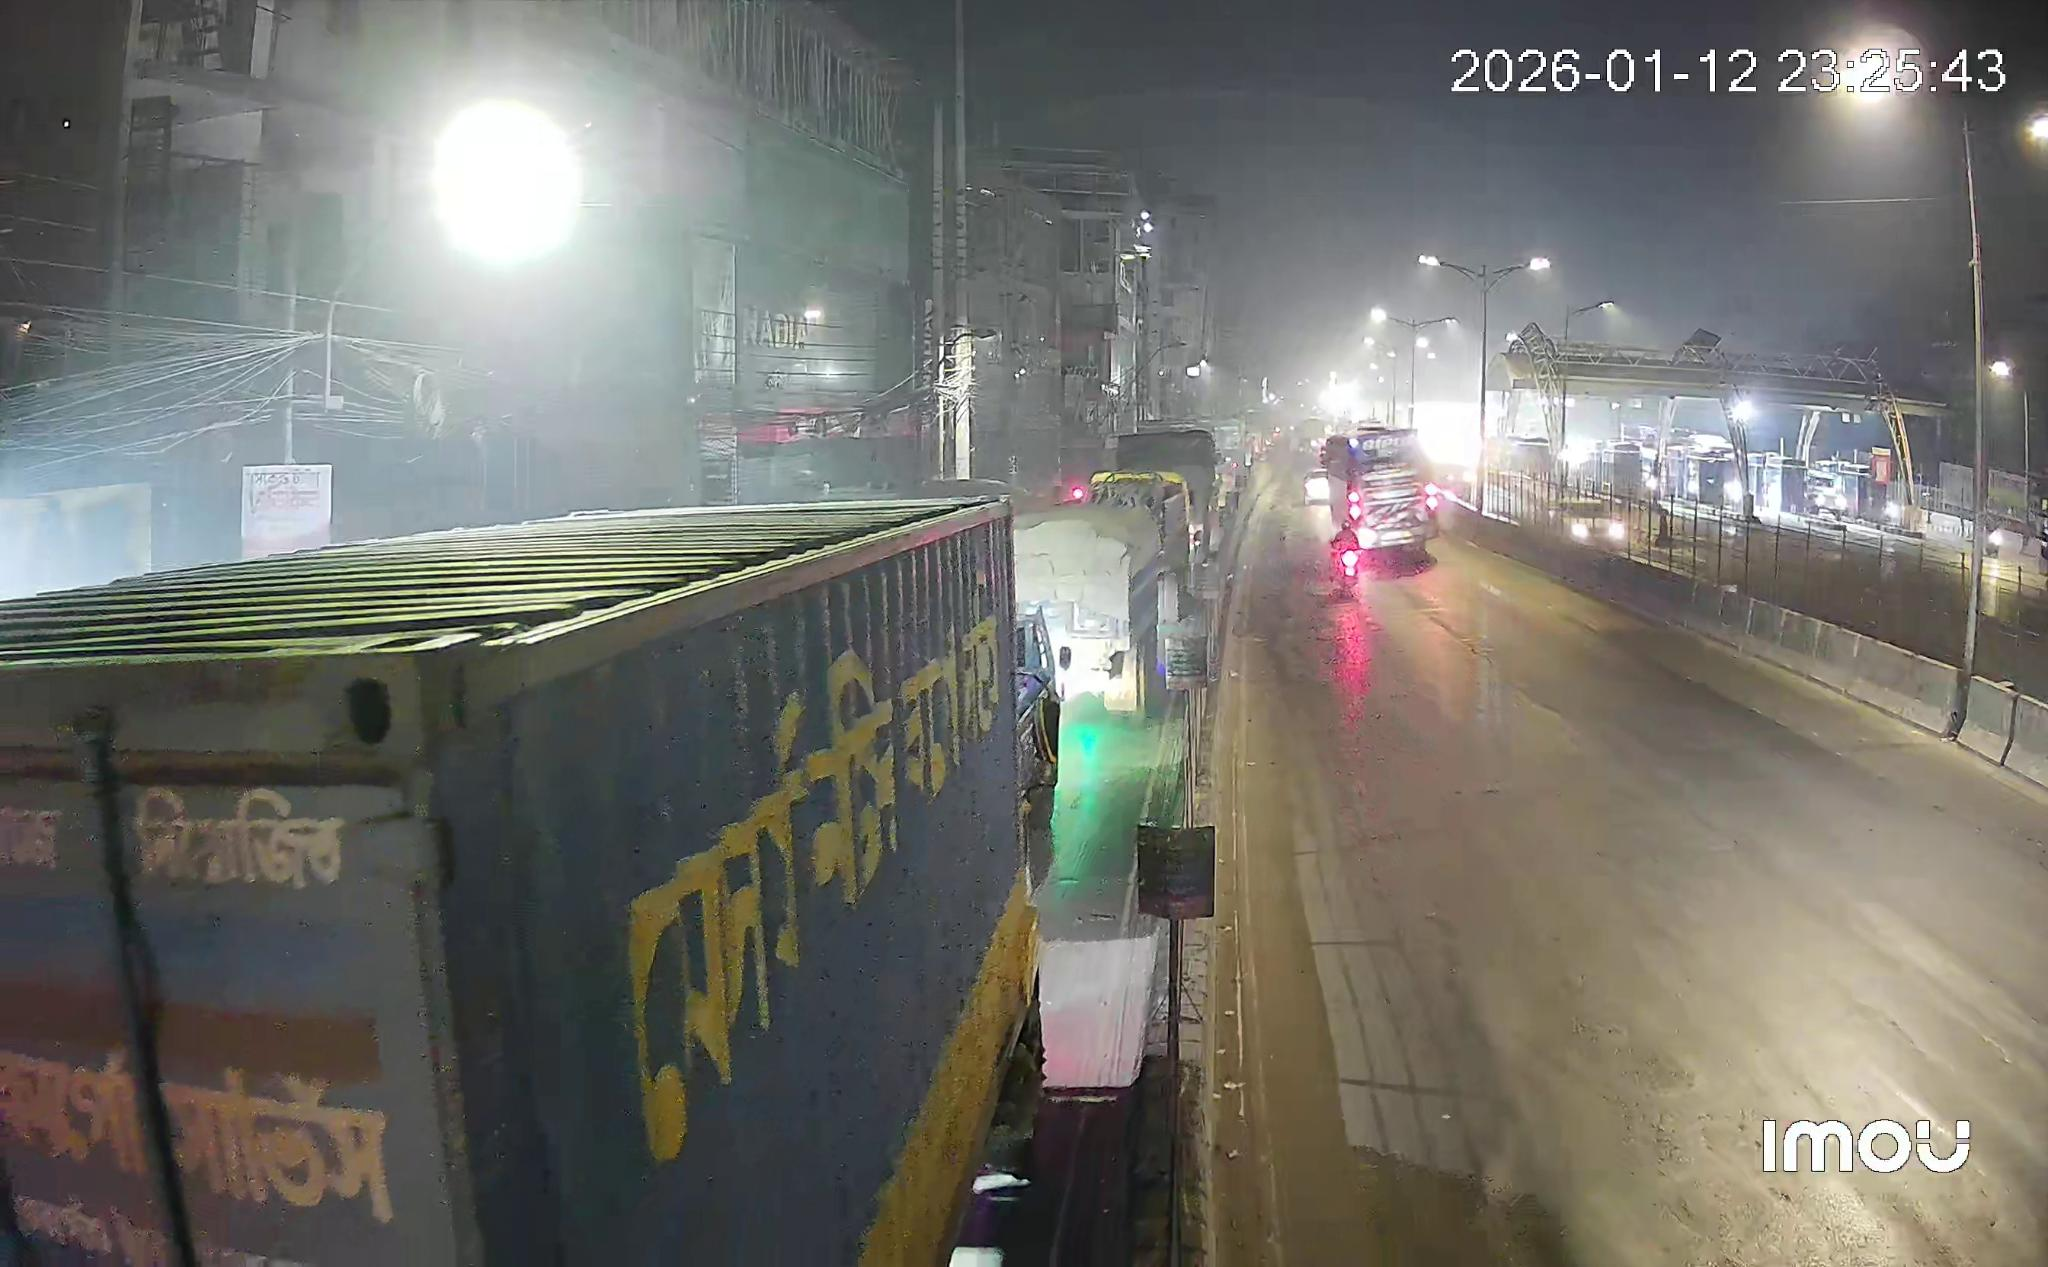Bus: (1324, 429, 1437, 559)
Motorcycle: (1330, 527, 1362, 593)
Truck: (0, 500, 1059, 1267), (1014, 473, 1188, 711)
